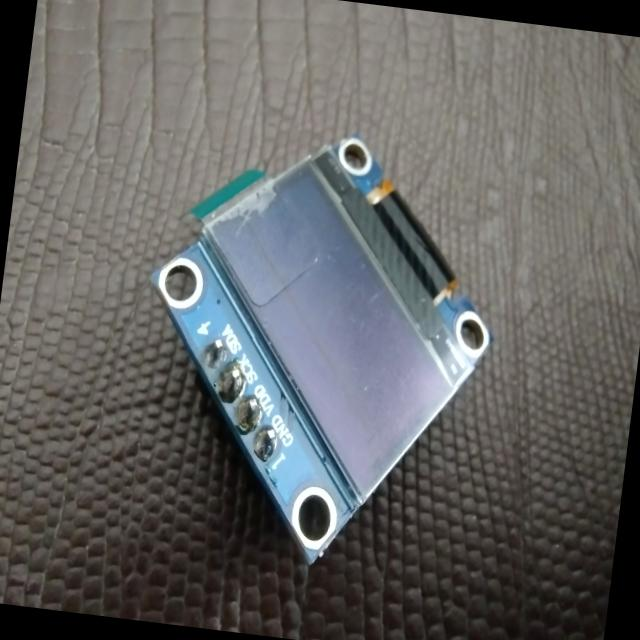oled: (117, 101, 520, 604)
